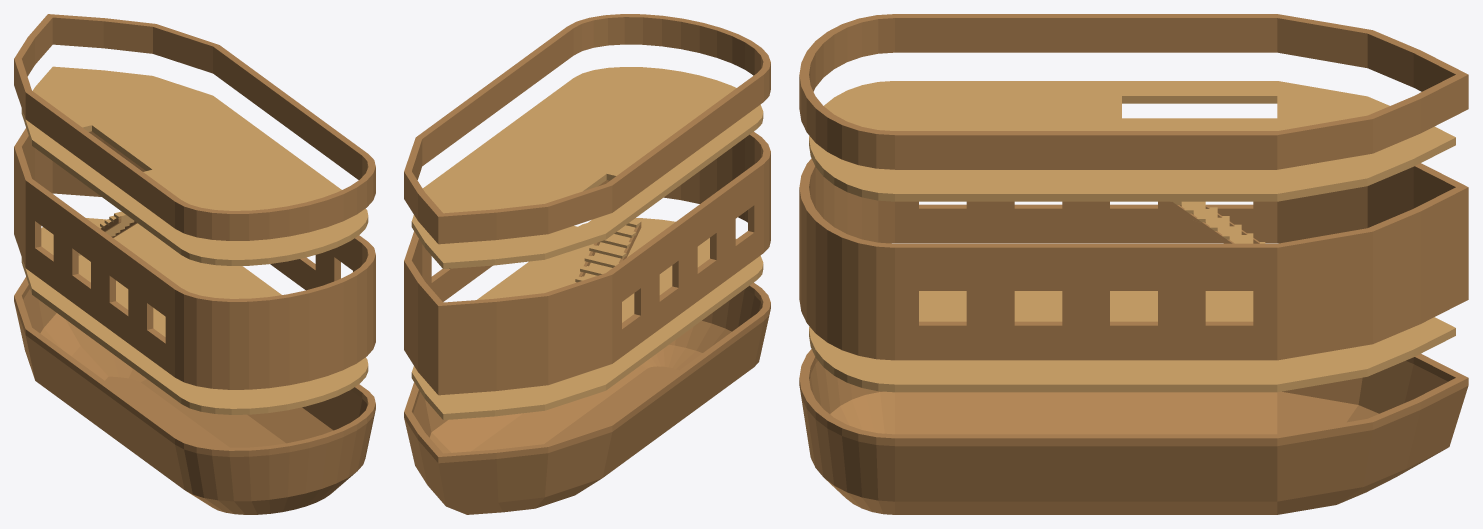
Rendered from DOUBLE_DECK_EXPLODED.glb.
3 renders of one model, left to right at view 1: azimuth 30°, elevation 25°; view 2: azimuth 150°, elevation 25°; view 3: azimuth 270°, elevation 25°, orthographic. The views are drawn at different scales.
Size of the model in its own units: 6 by 9.6 by 14.
